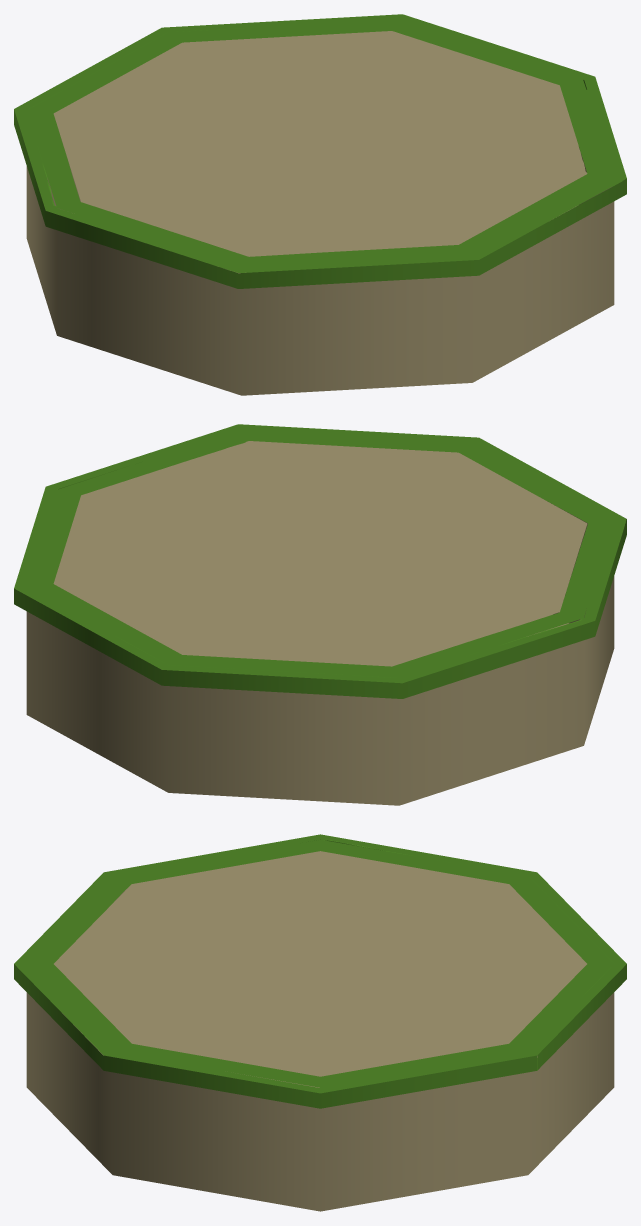
File: darkness_tower_platform1.FBX
3 views of the same model, one above another, from view 1: azimuth 30°, elevation 25°; view 2: azimuth 150°, elevation 25°; view 3: azimuth 270°, elevation 25° (orthographic). The views are drawn at different scales.
Parts seen in each view (by area): view 1: platform_rocket1; view 2: platform_rocket1; view 3: platform_rocket1.
Part boxes in pixels (x1=…): platform_rocket1: x1=14, y1=14, x2=626, y2=395; platform_rocket1: x1=14, y1=424, x2=626, y2=805; platform_rocket1: x1=14, y1=834, x2=626, y2=1211.
Bounding box in the file's own units: 9 × 2 × 9.
